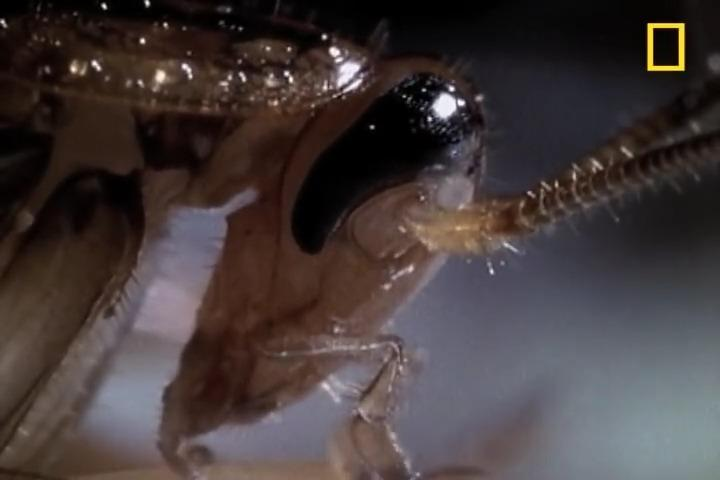cockroach: (0, 3, 643, 480)
